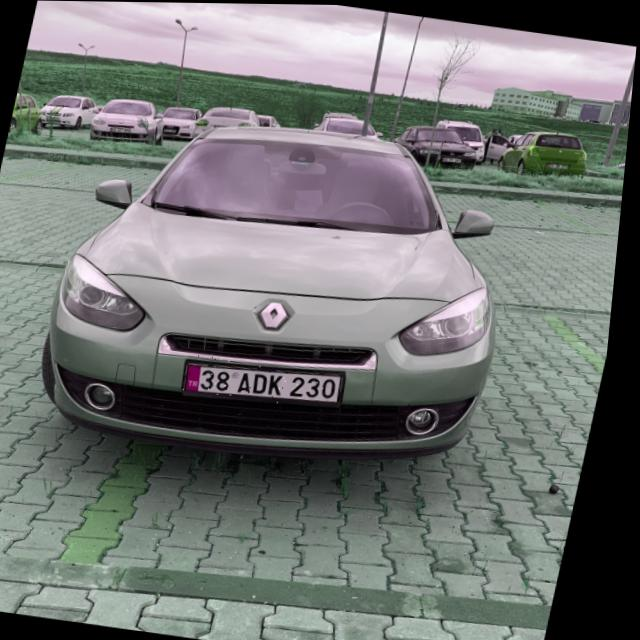license_plate: (186, 352, 354, 411)
